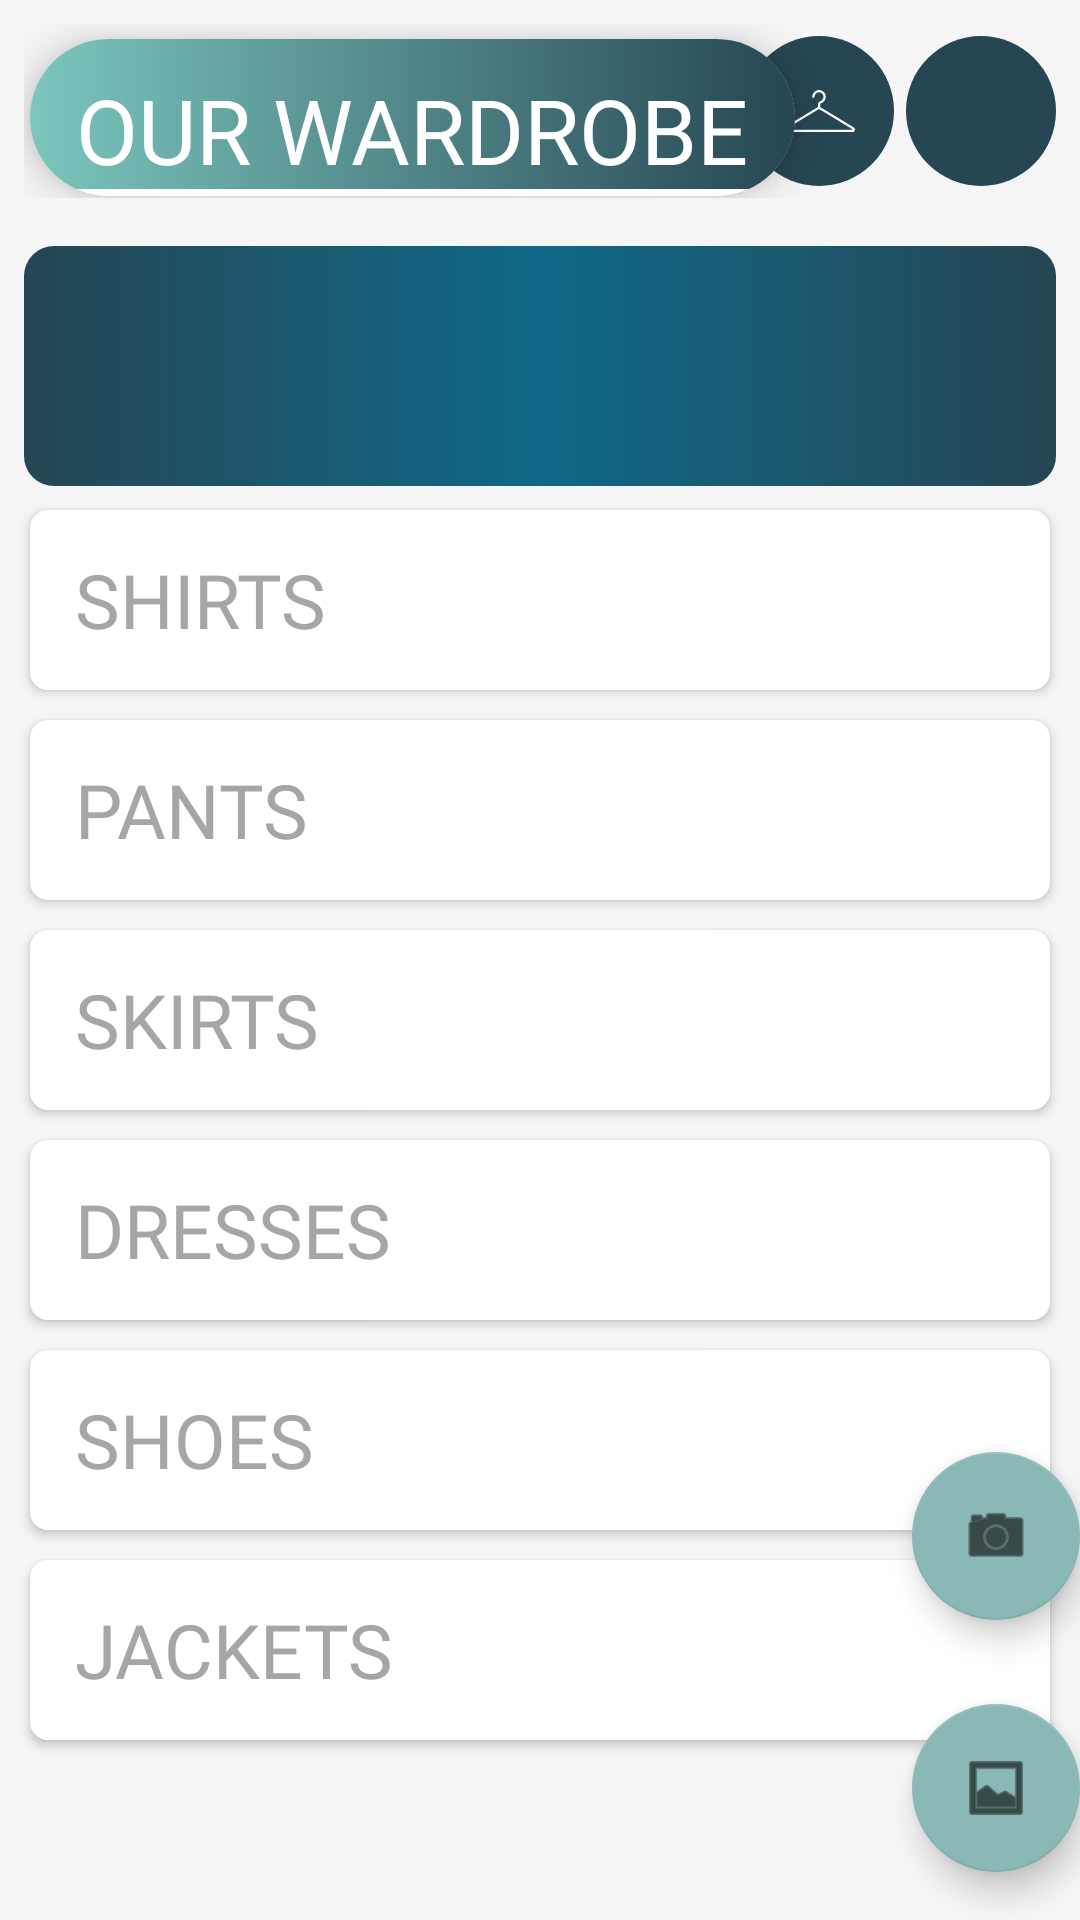

Screen size 1080px×1920px. Icon name, then its center in pixels as (x,y):
camera: (996,1536)
clothes hanger: (819,111)
gallery: (996,1788)
